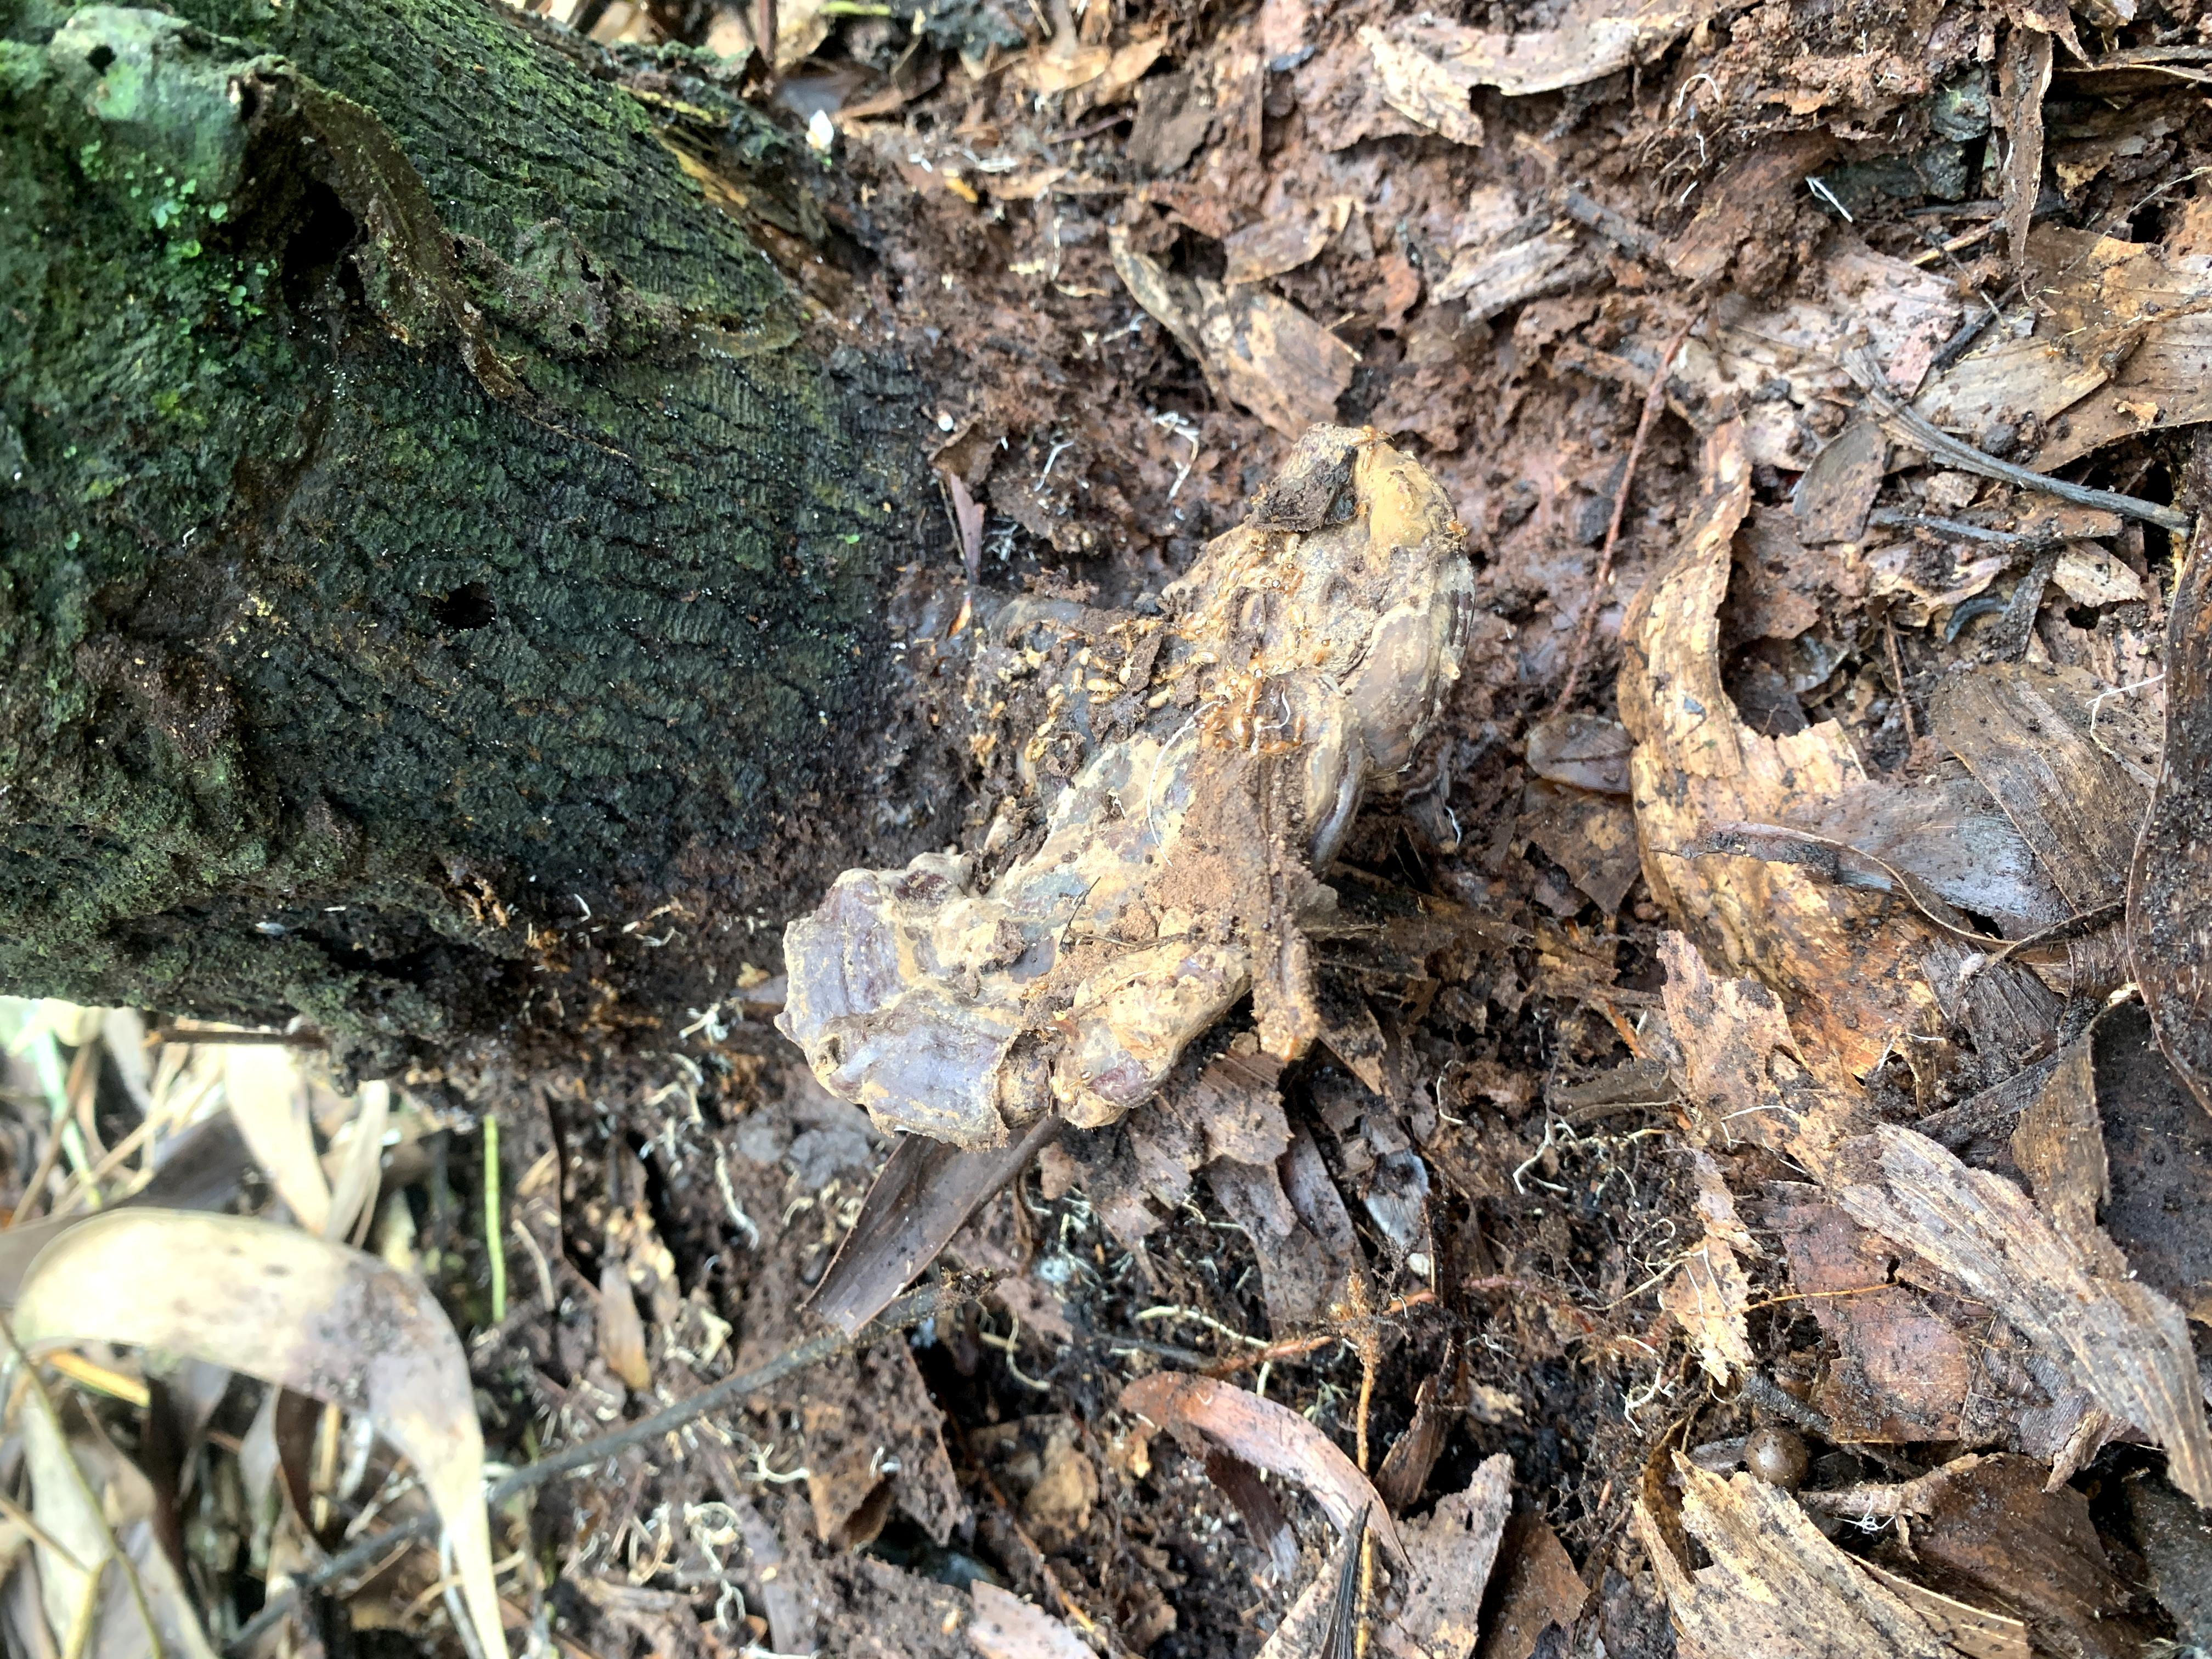Ganoderma - Fruit Body: (786, 420, 1467, 1157)
